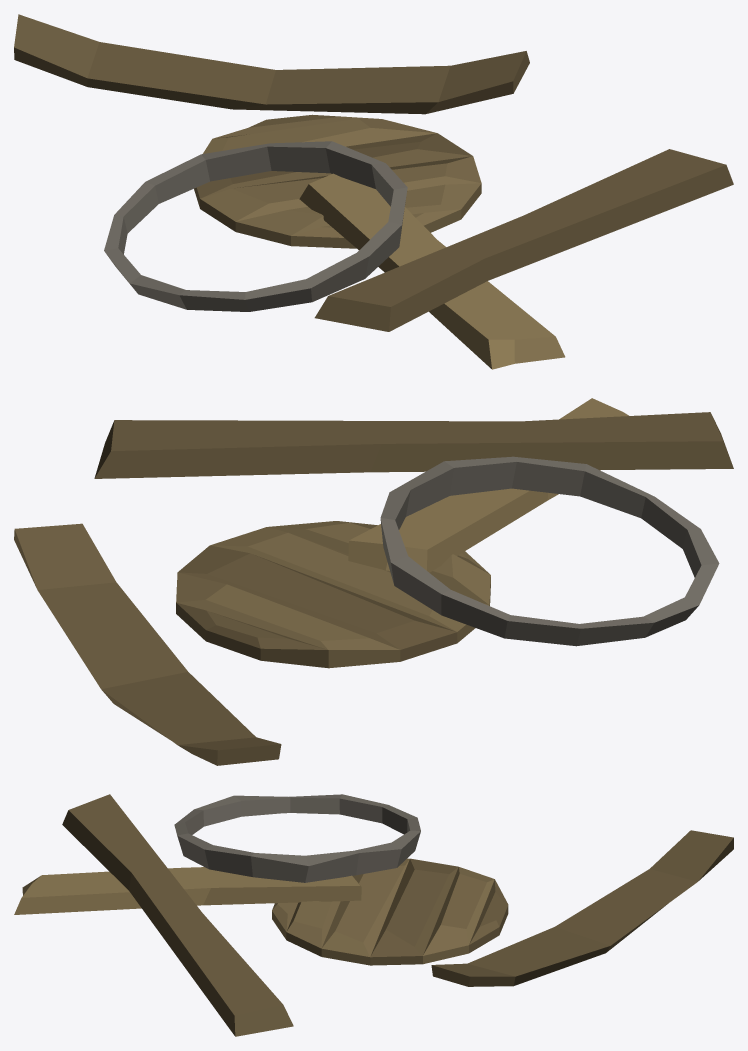
Rendered from Trash_4.fbx.
3 renders of one model, top to bottom at view 1: azimuth 30°, elevation 25°; view 2: azimuth 150°, elevation 25°; view 3: azimuth 270°, elevation 25°, orthographic. The views are drawn at different scales.
Visible parts, largest first — view 1: Trash_4; view 2: Trash_4; view 3: Trash_4.
Boxes of the visible parts, box(x1,y1,x2,y2) form: Trash_4: box(14, 14, 733, 369); Trash_4: box(14, 398, 733, 765); Trash_4: box(14, 794, 733, 1036).
Size of the model in its own units: 117 by 15.61 by 157.
